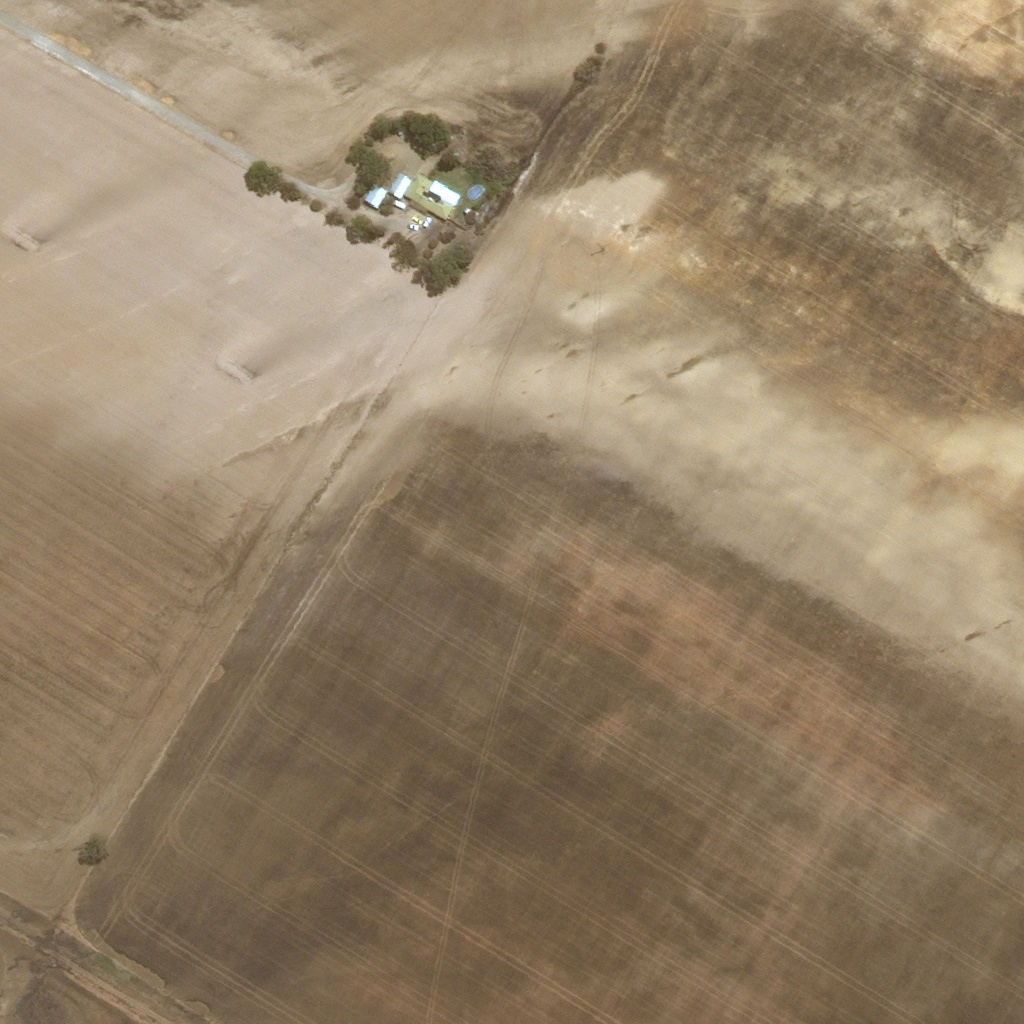0 no-damage: (403, 172, 463, 220), (389, 172, 413, 199), (364, 183, 387, 208), (393, 199, 406, 209)
